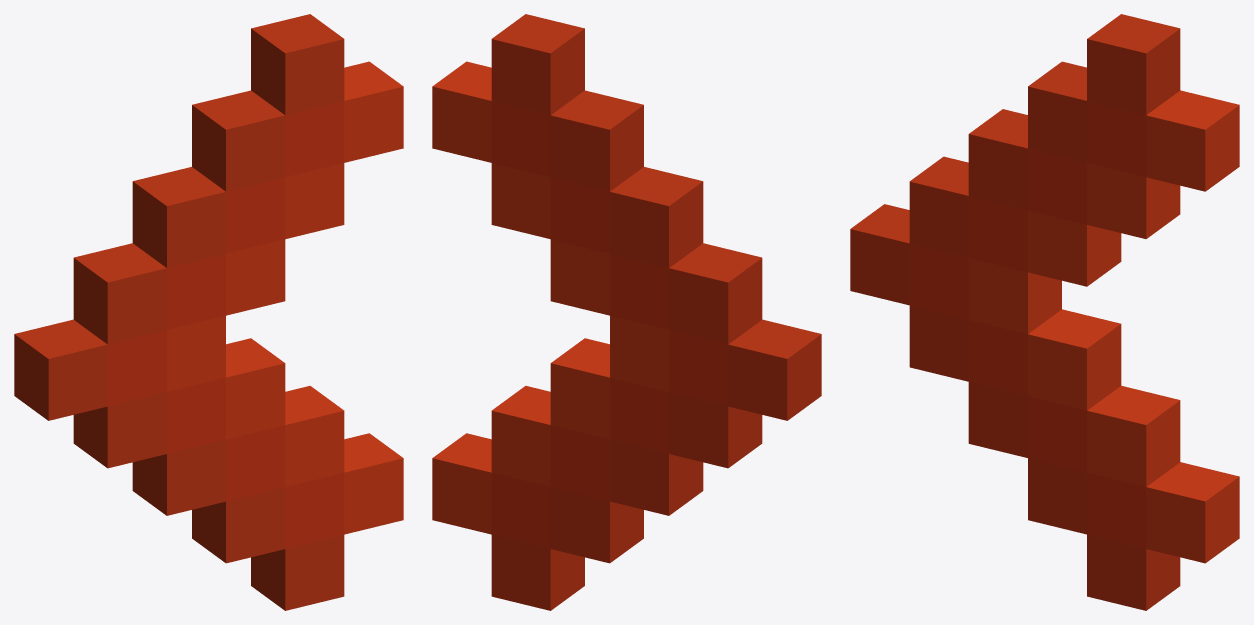
The model's file is bar-2.obj.
3 views of the same model, side by side, from view 1: azimuth 30°, elevation 25°; view 2: azimuth 150°, elevation 25°; view 3: azimuth 330°, elevation 25° (orthographic).
Bounding box in the file's own units: 0.6 × 0.9 × 0.1.
Materials: 1 (1 with a texture image).
